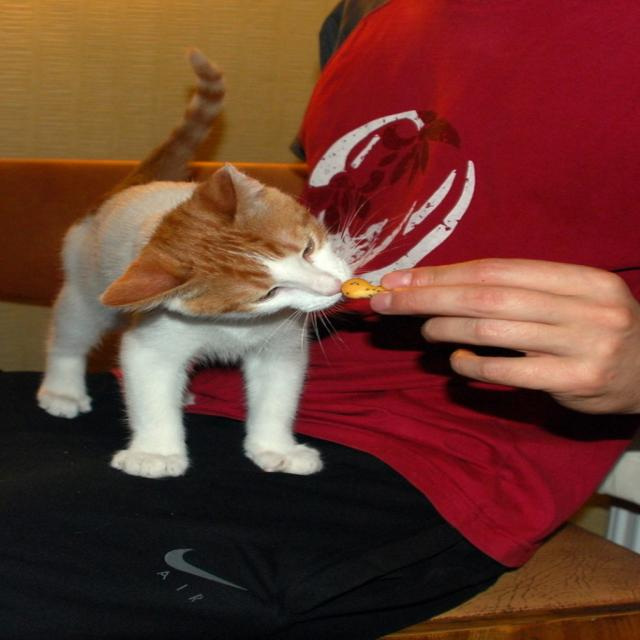Cat: (27, 42, 353, 482)
